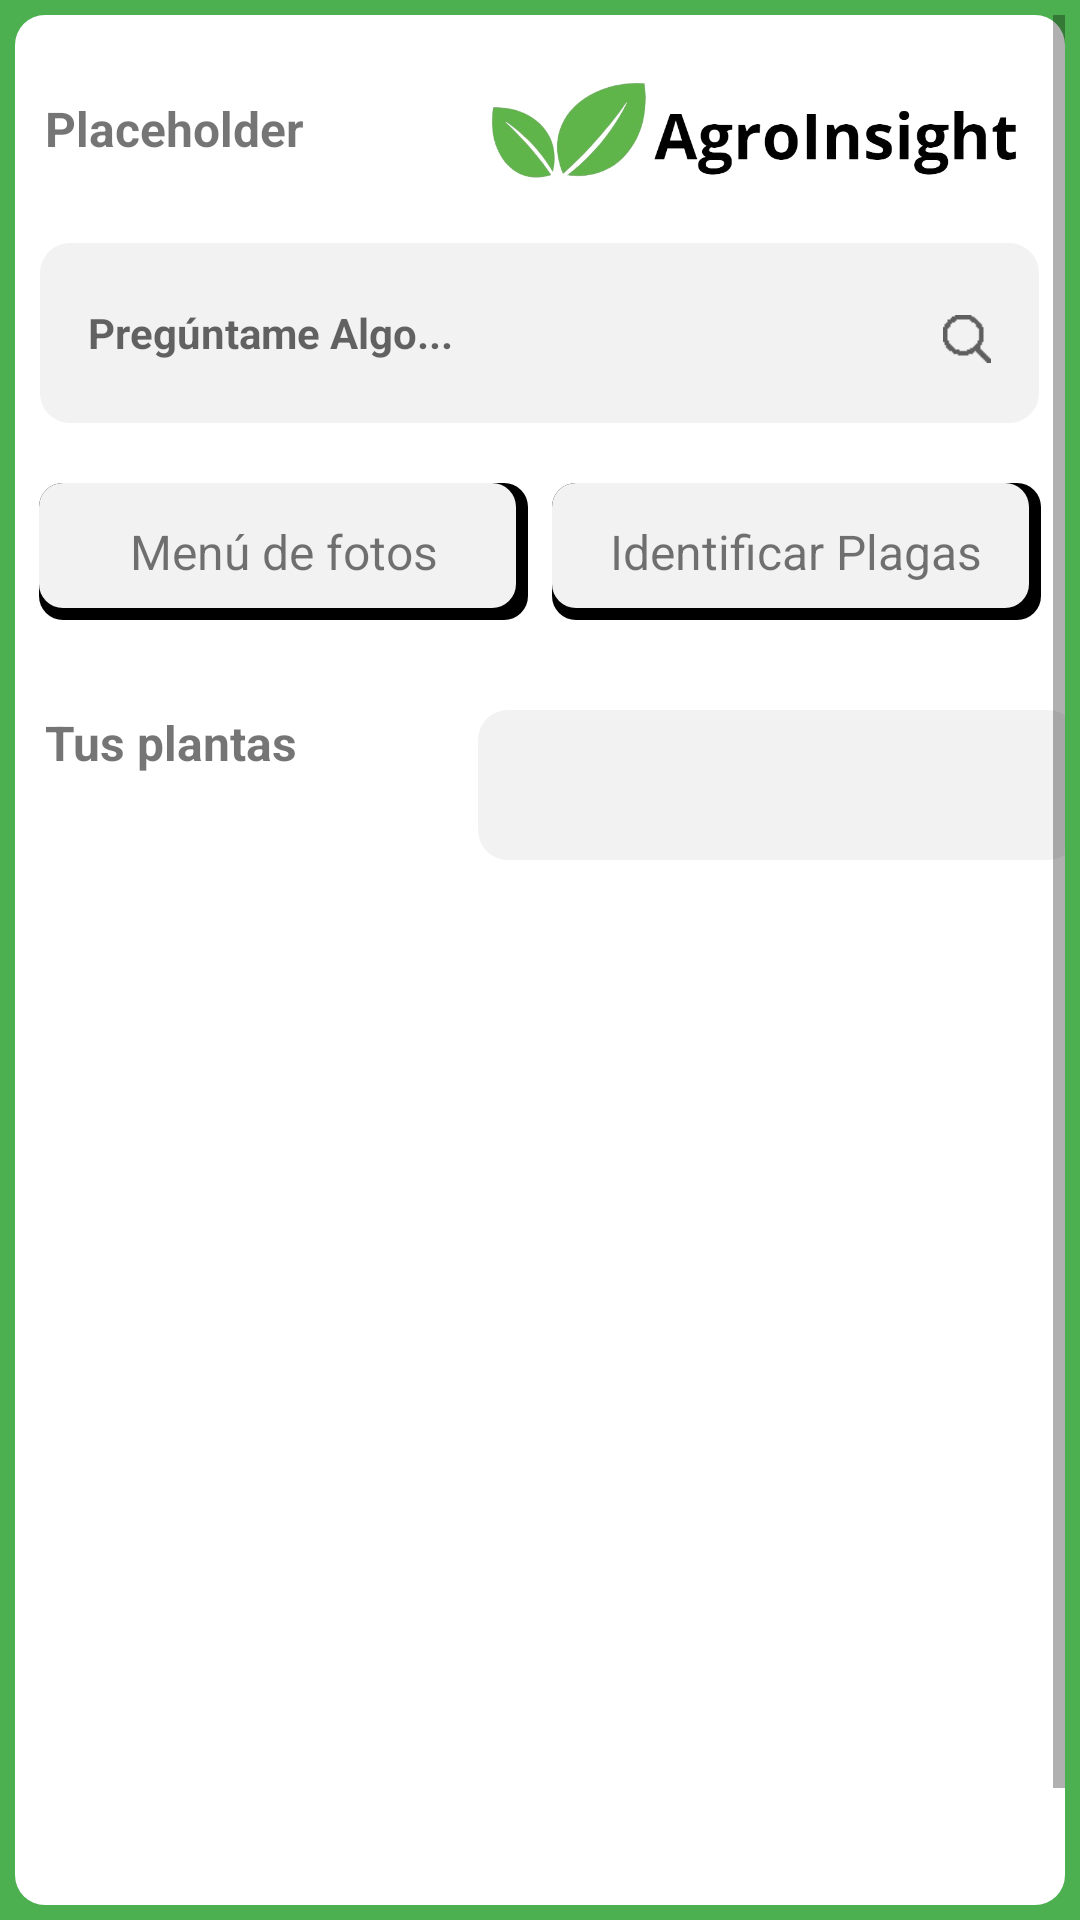

Icon bounding boxes for this 1080 x 1920 phone screenshot, format (x1, y1, x2, y2):
busqueda: (943, 315, 991, 363)
